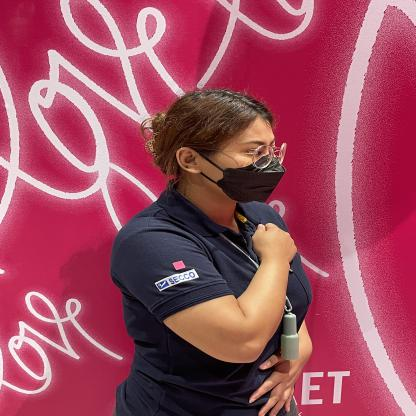Sadness: (193, 210, 327, 306)
